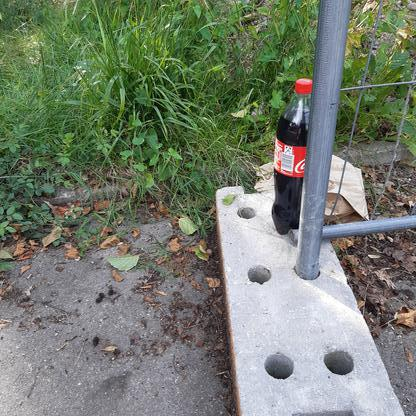coca-cola: (270, 77, 313, 236)
